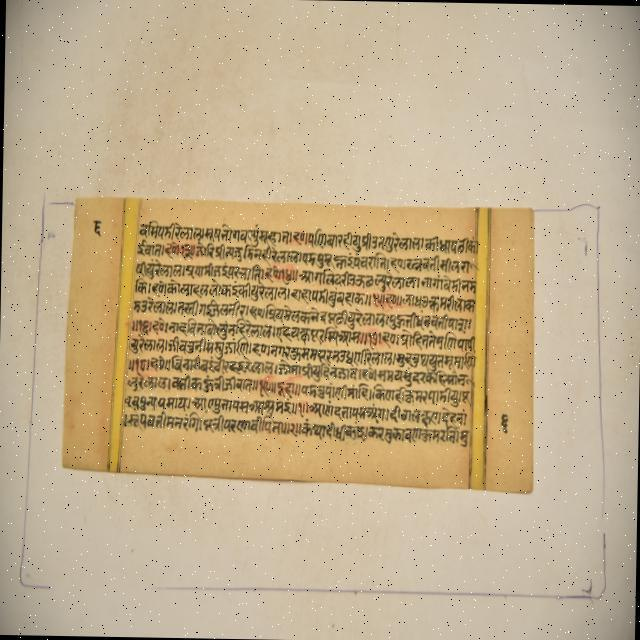text_paragraph: (62, 195, 532, 491)
